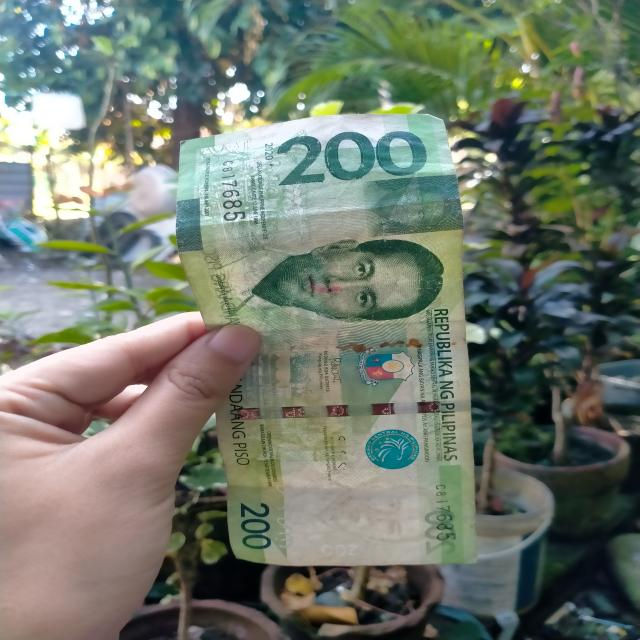concealed_value: (362, 173, 464, 237)
security_thread: (225, 399, 458, 421)
serial_number: (215, 152, 249, 228)
value: (270, 128, 428, 186)
value_watermark: (313, 538, 363, 562)
watermark: (279, 472, 438, 549)
